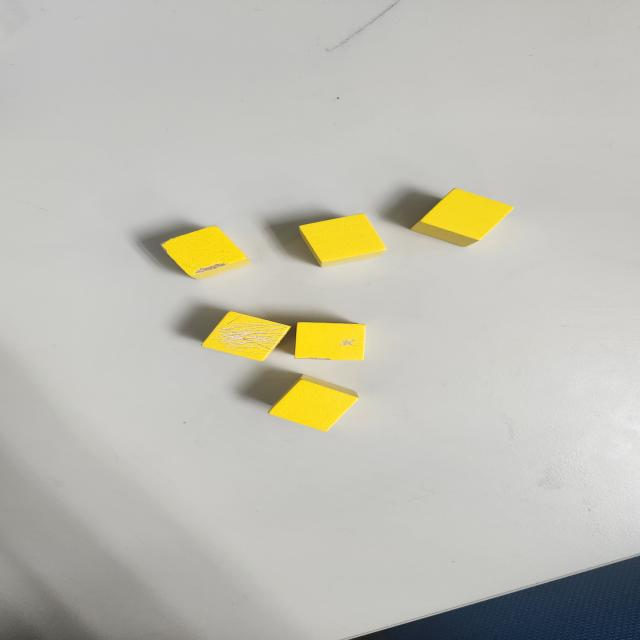broken: (158, 222, 254, 286), (201, 309, 291, 361), (294, 321, 367, 361)
yellow: (410, 185, 516, 251), (268, 373, 360, 435), (297, 212, 388, 268)
